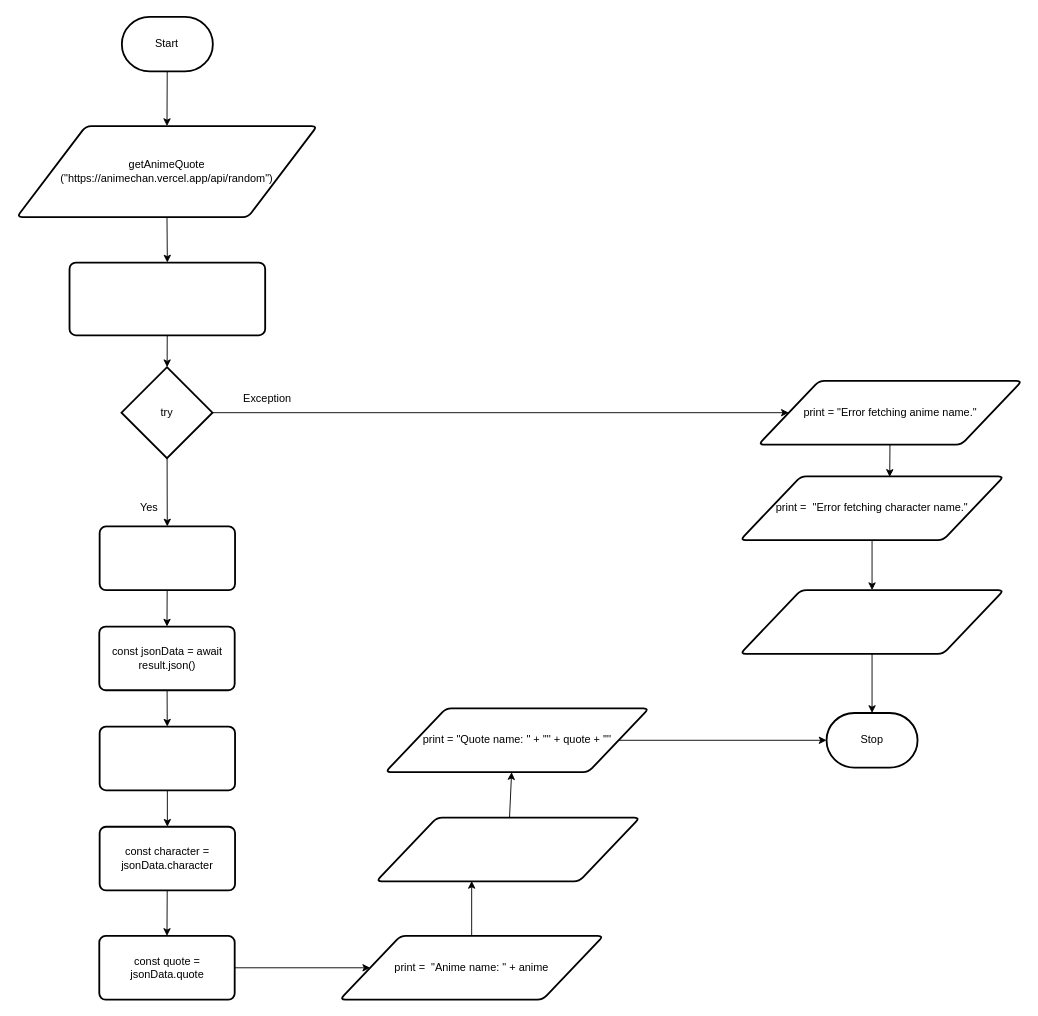
The diagram is 1038 pixels wide and 1016 high, and some of its shapes have lost their labels. The centre of each missing label's shape, as x and y in pixels:
const anime = jsonData.anime: [167,758]
const getAnimeQuote = async (URLAddress) =>: [167,298]
const result = await fetch(URLAddress): [167,558]
print = "Character name: " + character: [507,849]
print = "Error fetching anime quote.": [871,621]
